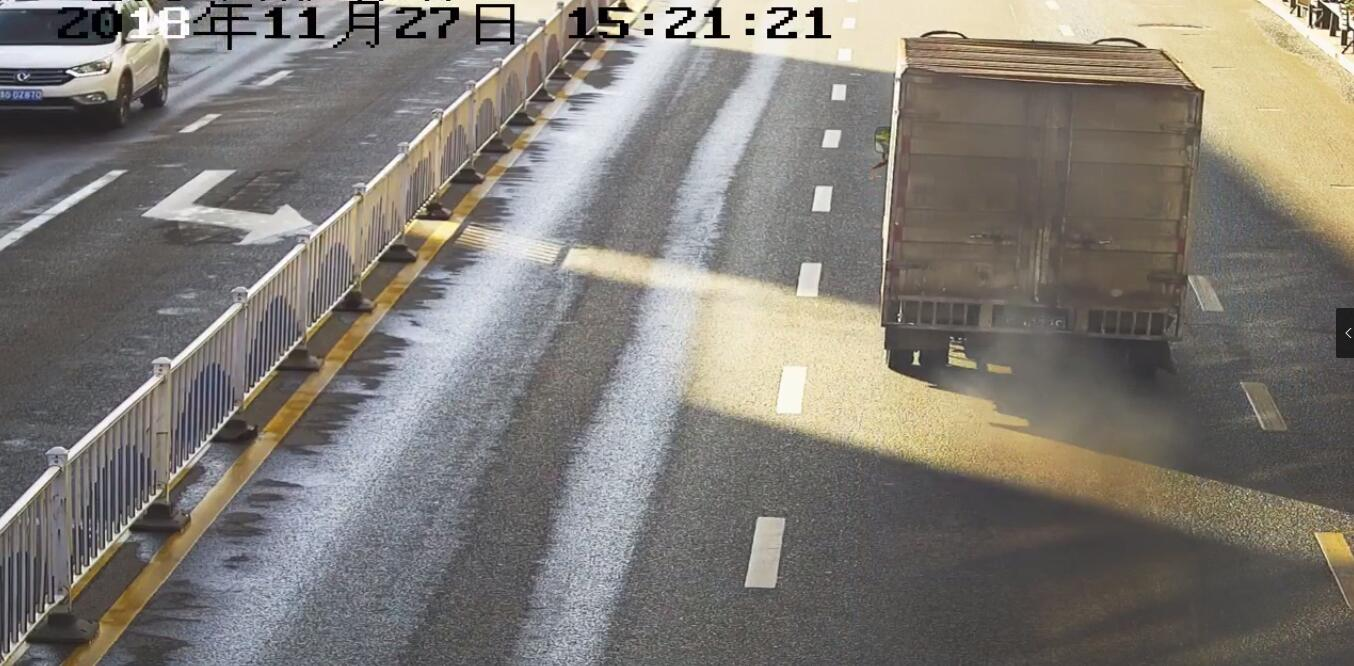yanwu: (981, 319, 1168, 448)
